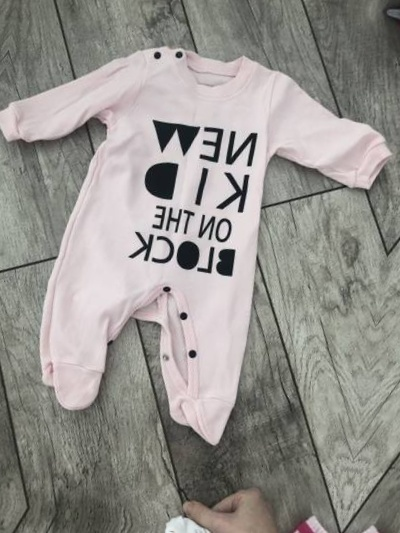Body: (0, 5, 400, 470), (358, 73, 400, 533), (0, 0, 16, 404)
